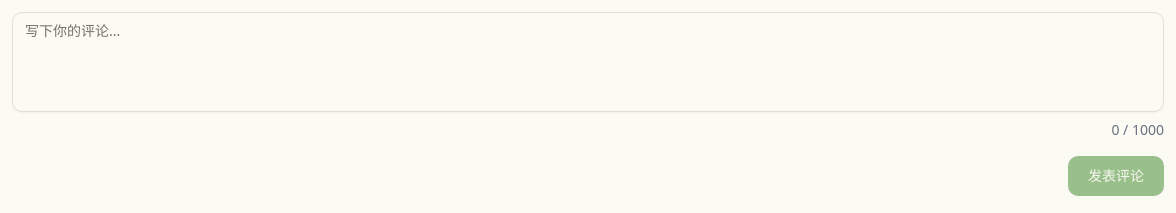
CommentForm › 登录状态 › 应该显示字数统计
Type "这是一条测试评论" into the text box with placeholder "写下你的评论..." at (588, 62), box x1=12 y1=12 x2=1164 y2=112
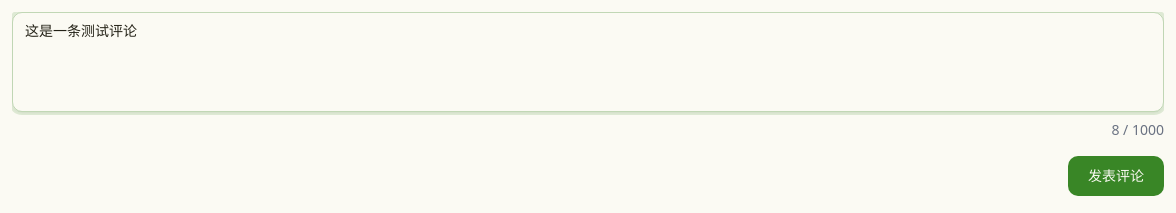
Expected: the text "8 / 1000" is shown, x1=1111 y1=120 x2=1164 y2=140
